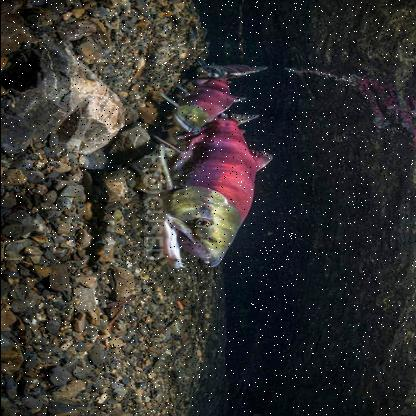fish: (152, 111, 272, 269), (160, 60, 266, 138)
